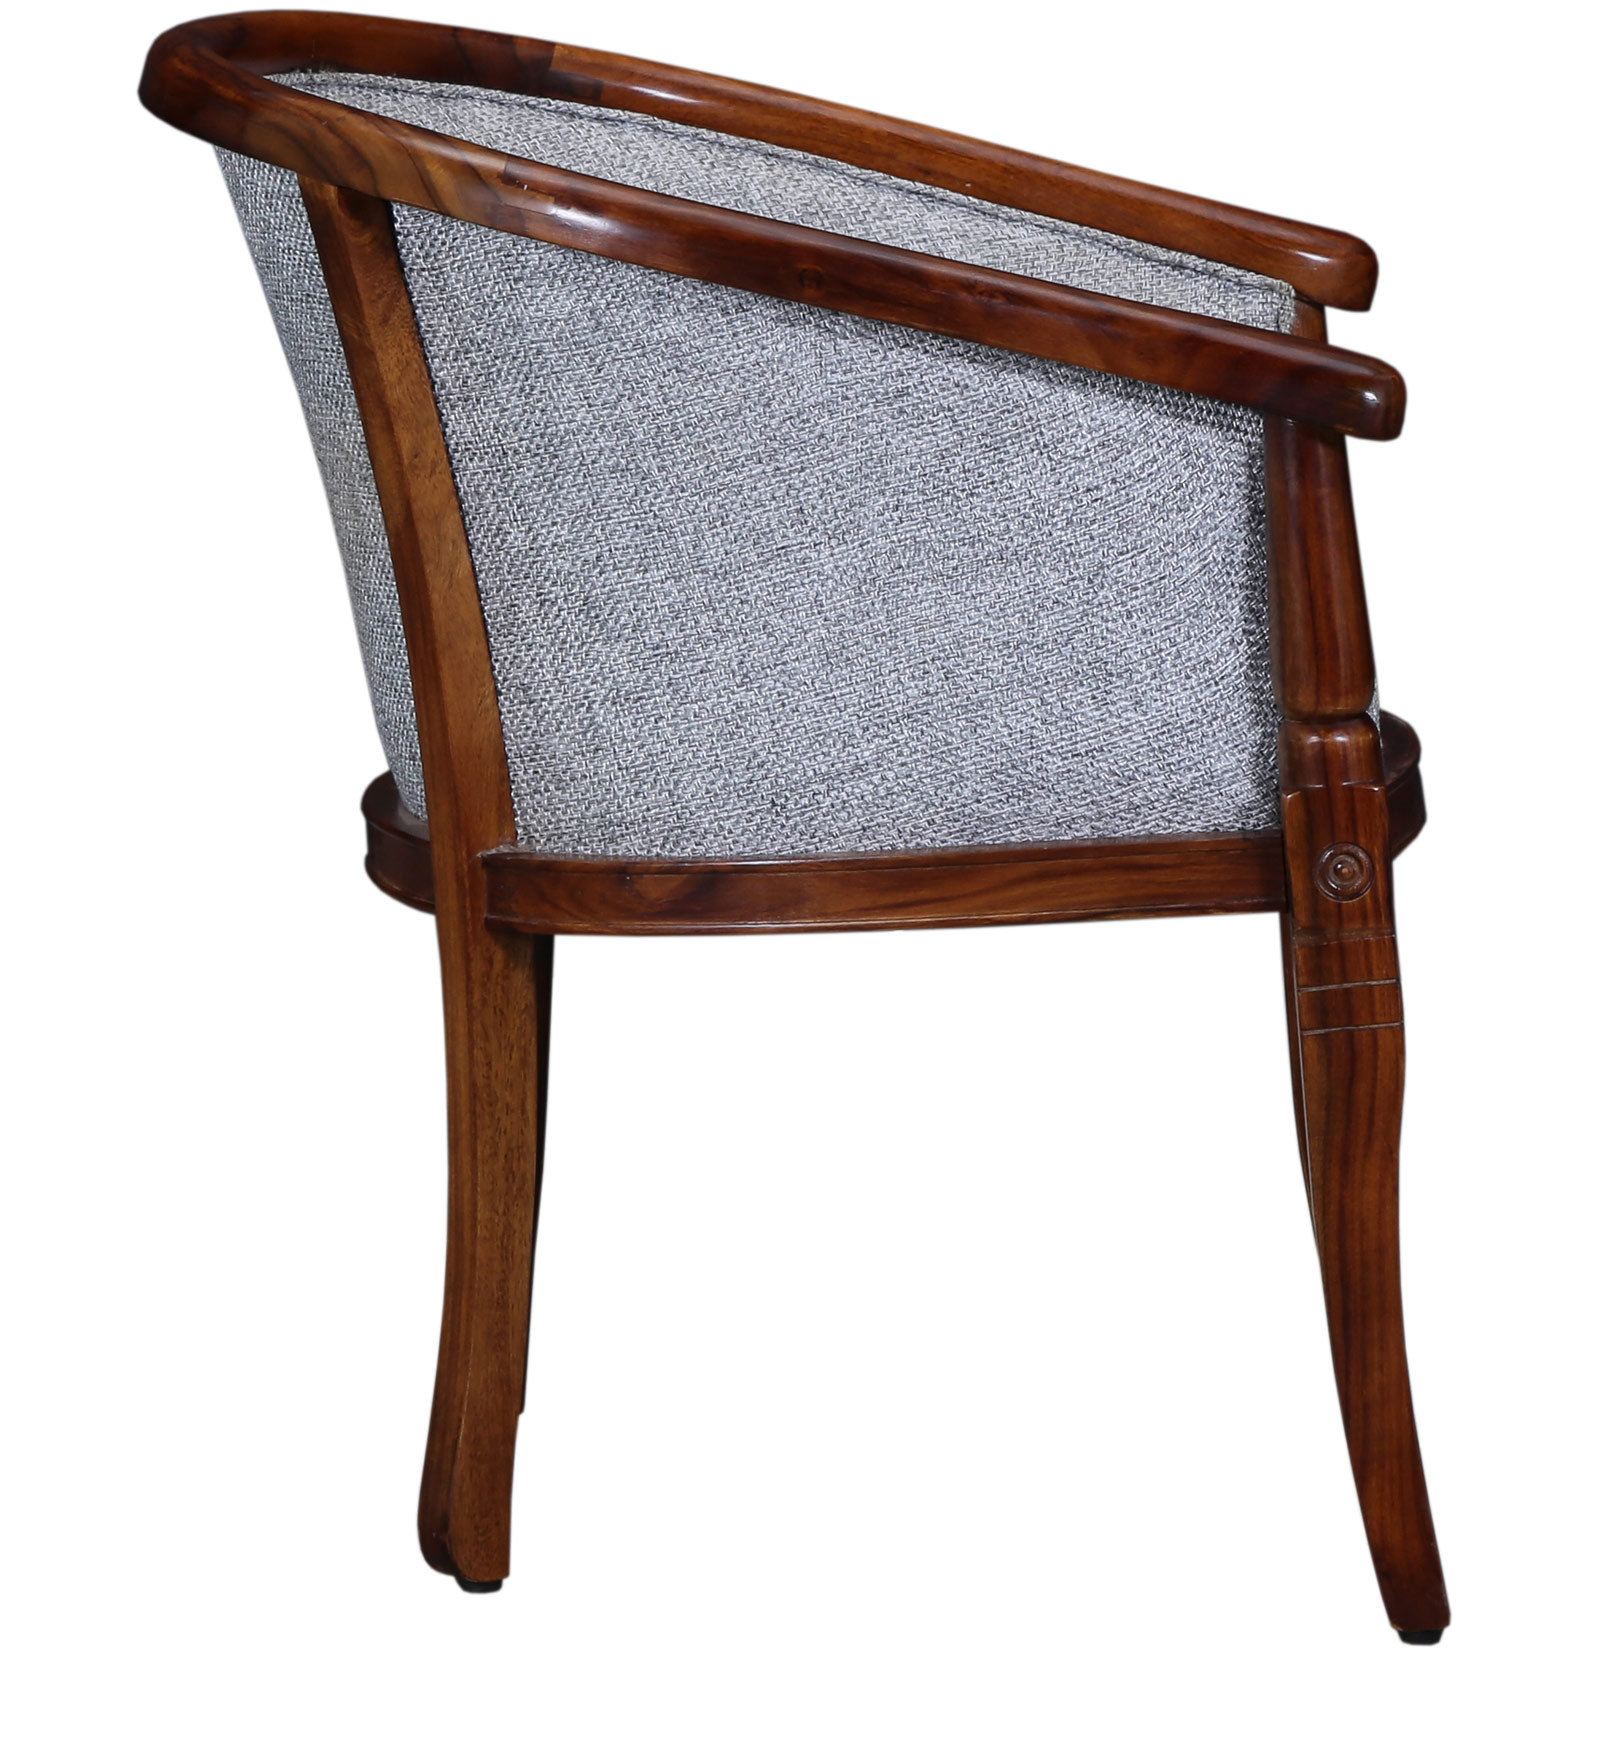Stalley Arm Chair in Grey Color with Honey Oak Finish by Amberville: (107, 21, 1565, 1697)
